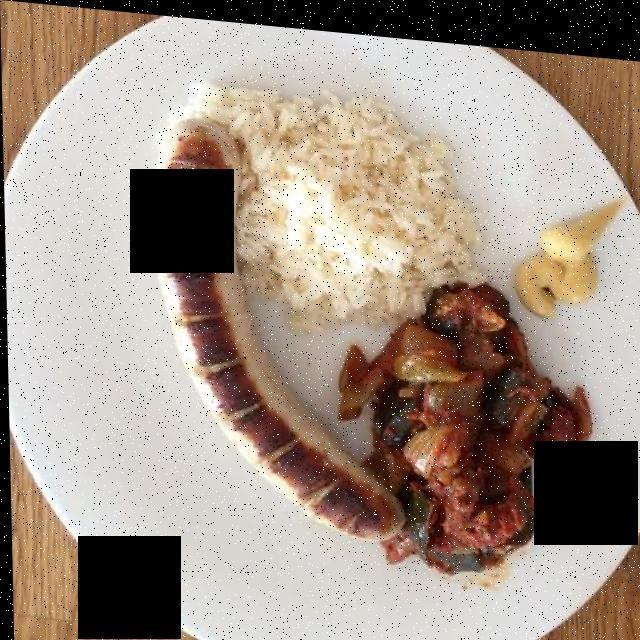eggplant: (347, 276, 589, 568)
rice: (206, 87, 484, 323)
sausage: (144, 92, 409, 544)
